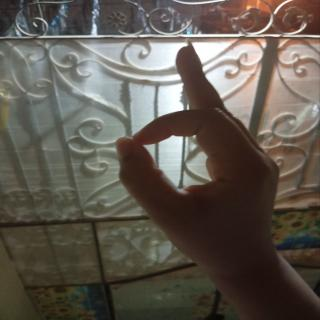Space: (104, 36, 289, 286)
